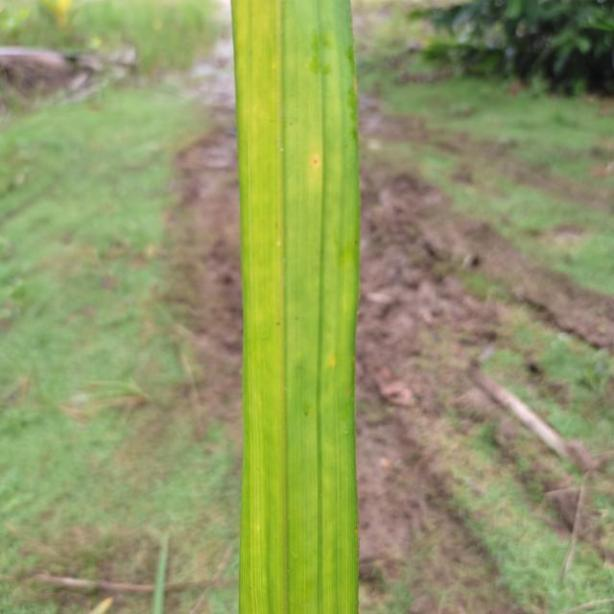nitrogen: (228, 0, 364, 614)
